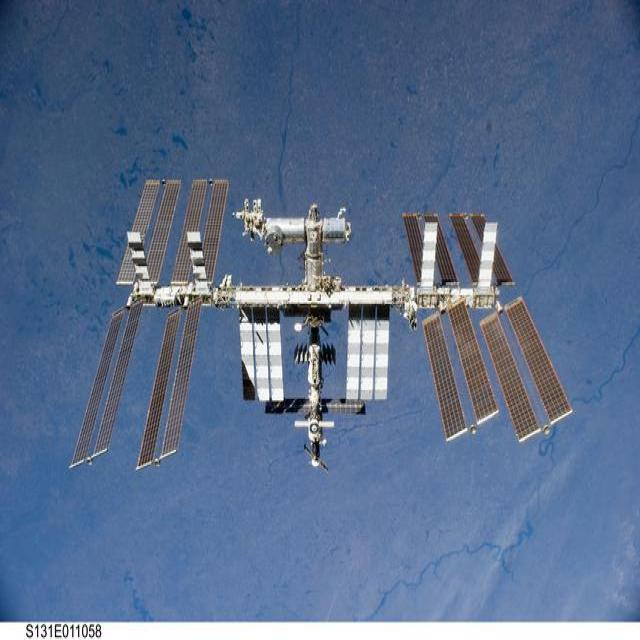medium_debris: (80, 158, 592, 522)
